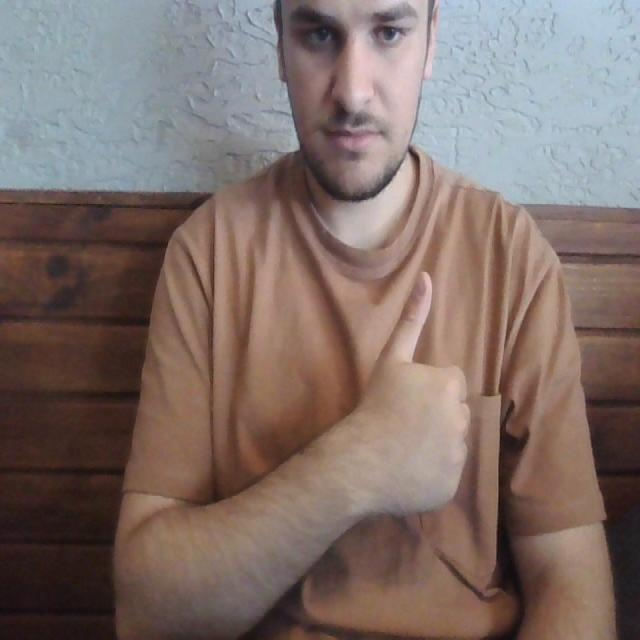Tamam: (347, 263, 478, 525)
